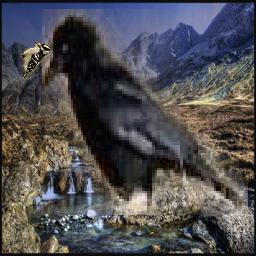Crow: (42, 9, 248, 215)
Woodpecker: (20, 42, 50, 79)
